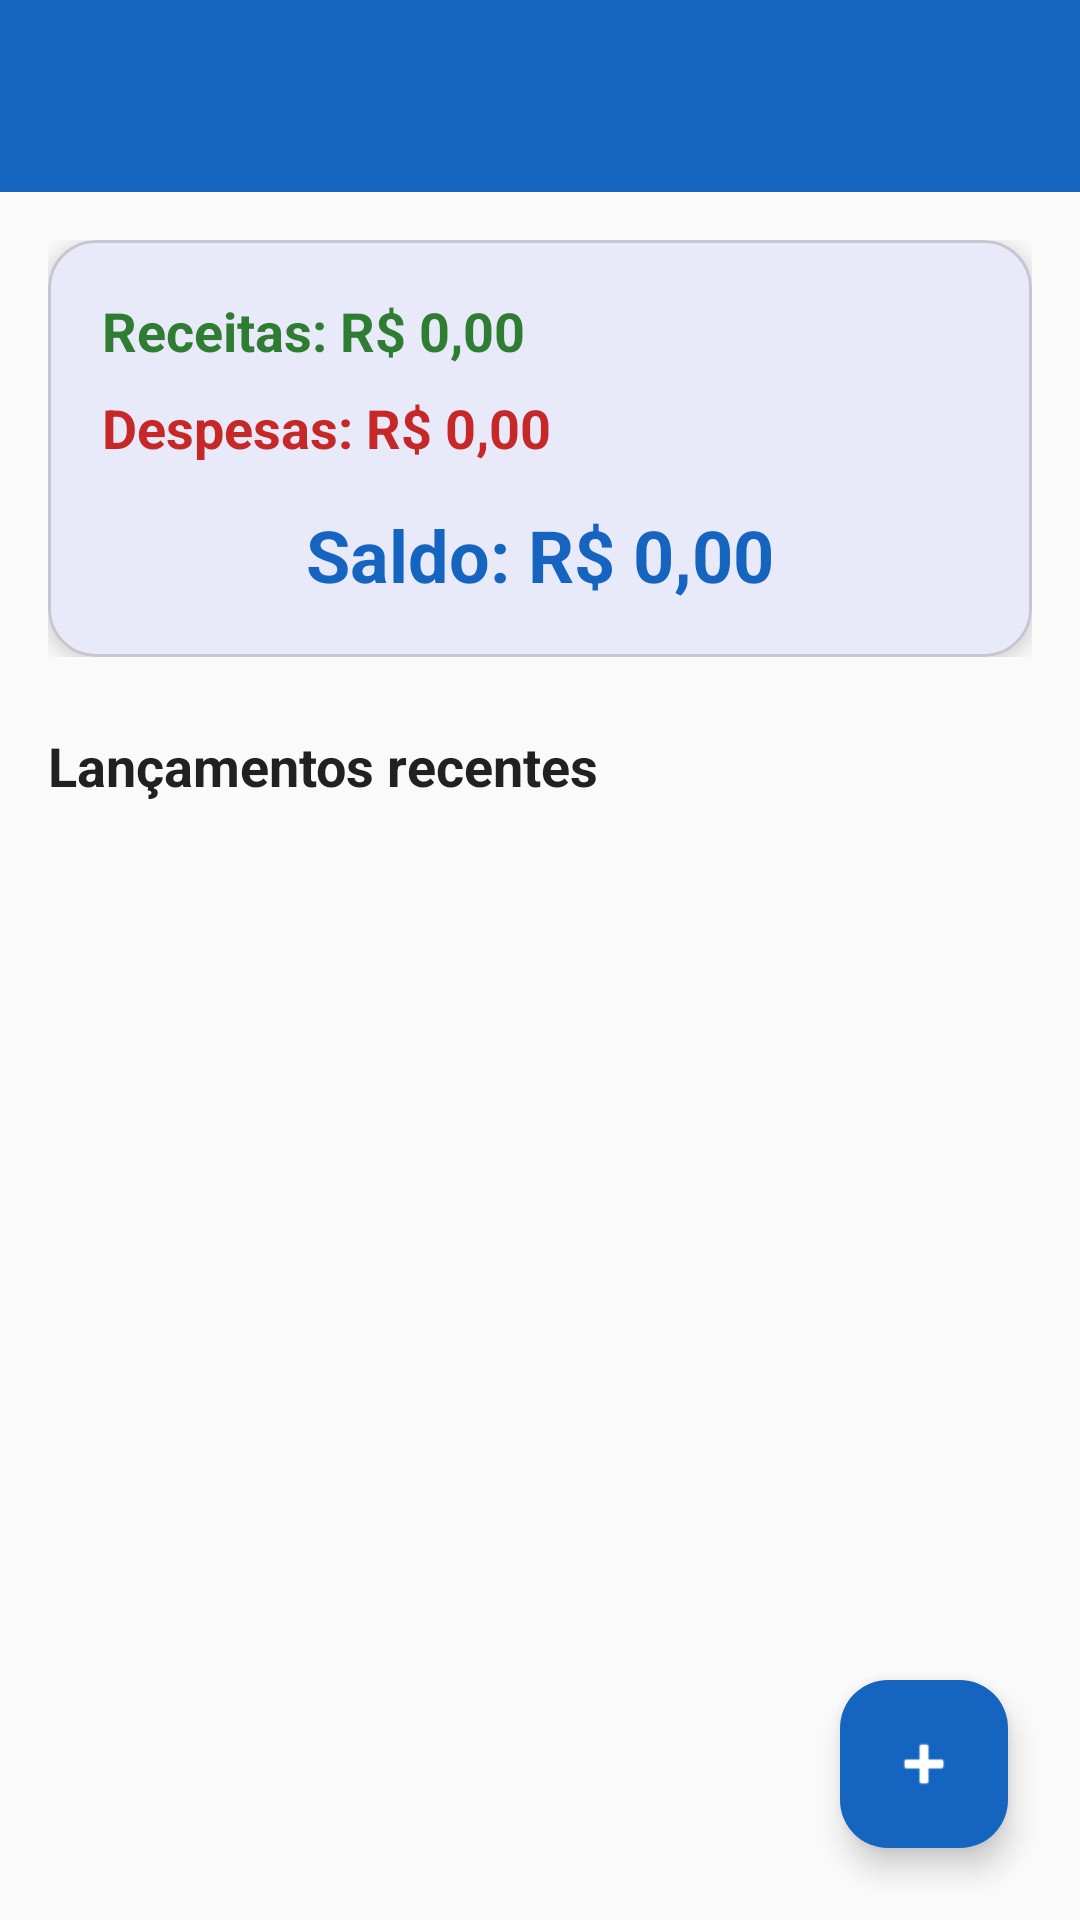

Point at icon controls on the screen. Image size 1080 x 1920, points as [x,y].
Novo lançamento: [924,1764]
